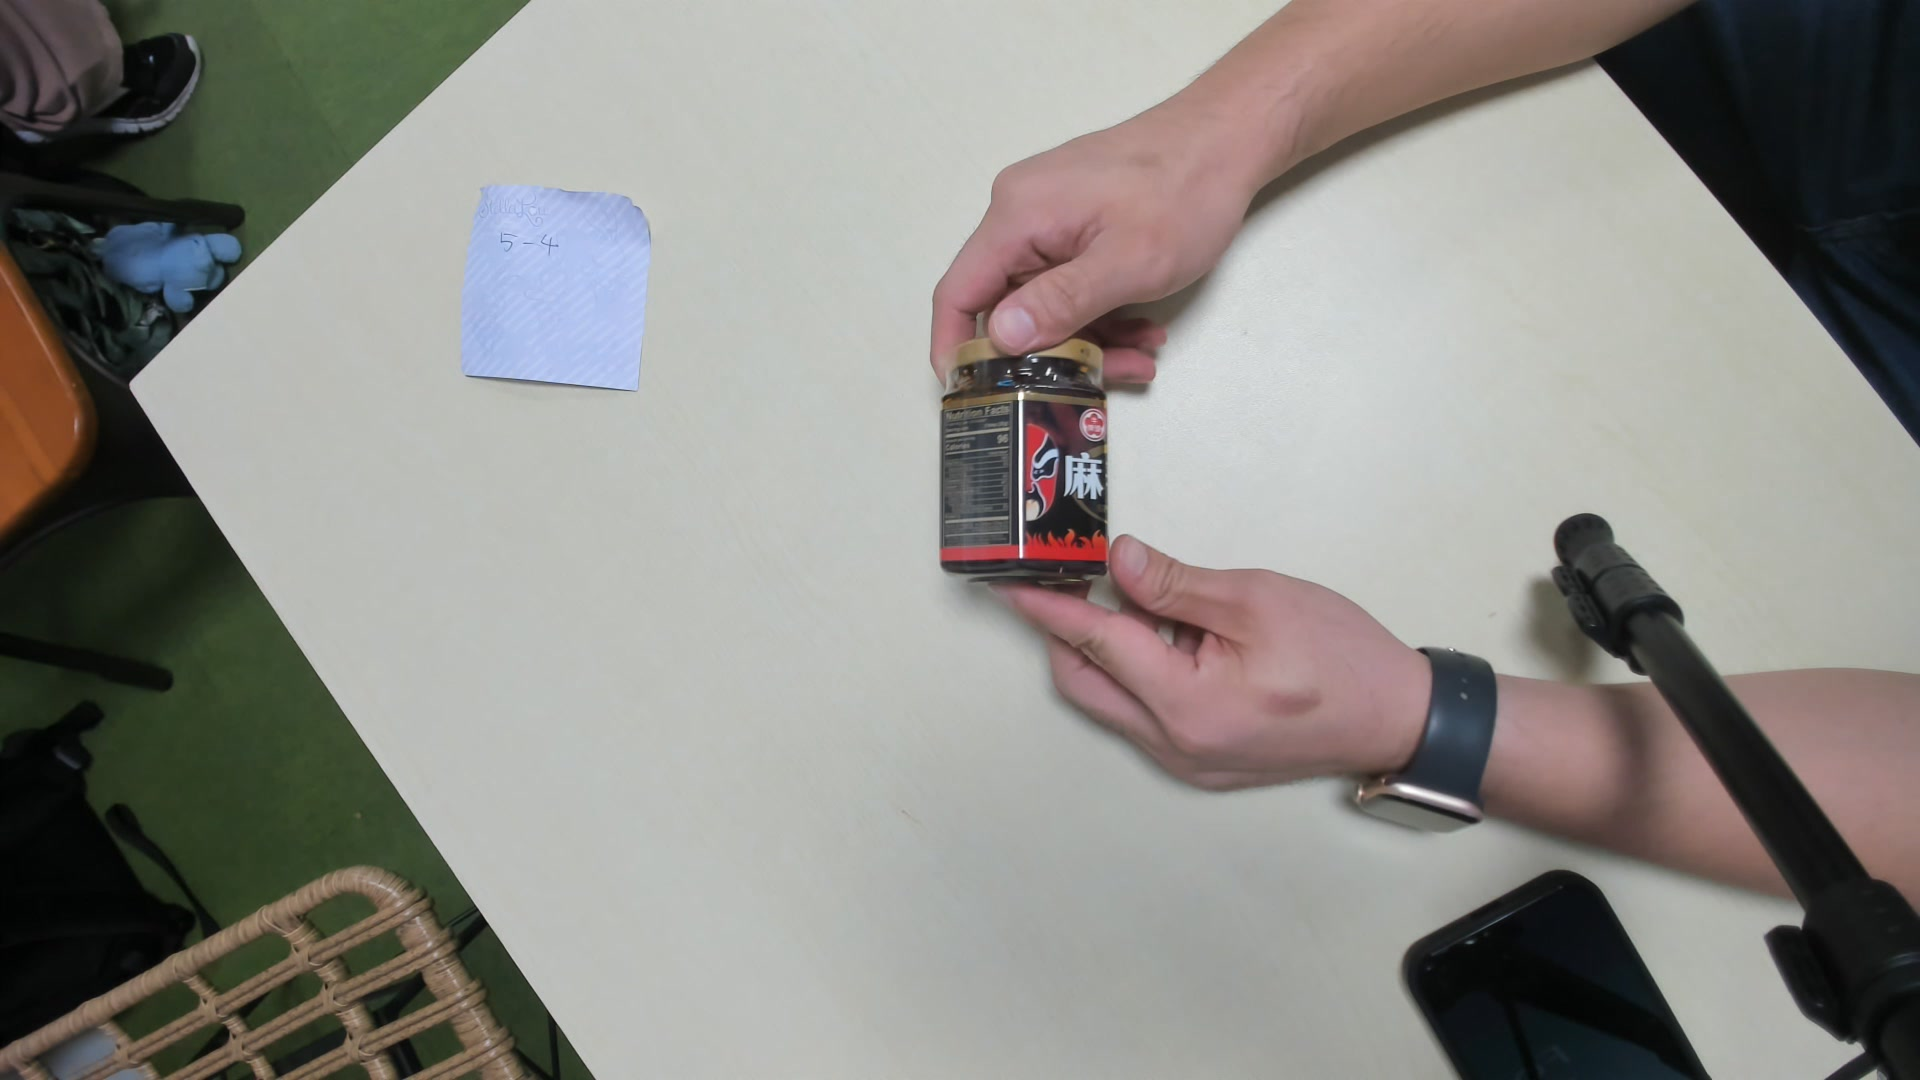OtherSauceDressing_100-199g_NonHalal_NonHealthy: (942, 330, 1112, 582)
